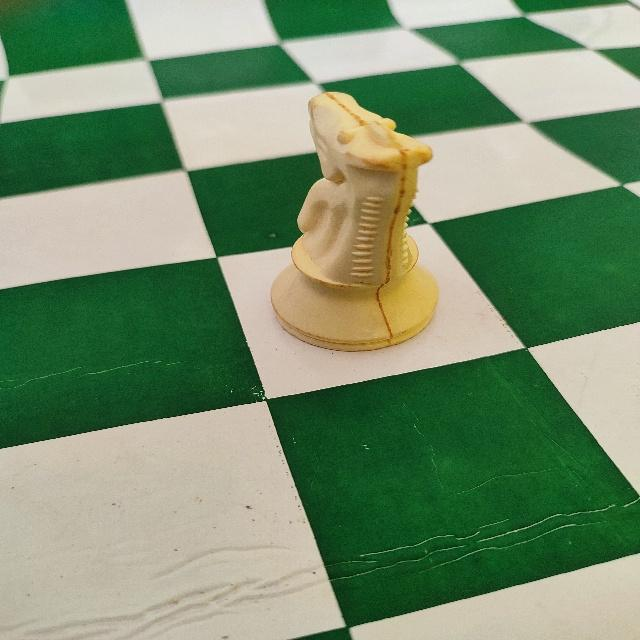Knight: (267, 88, 442, 355)
